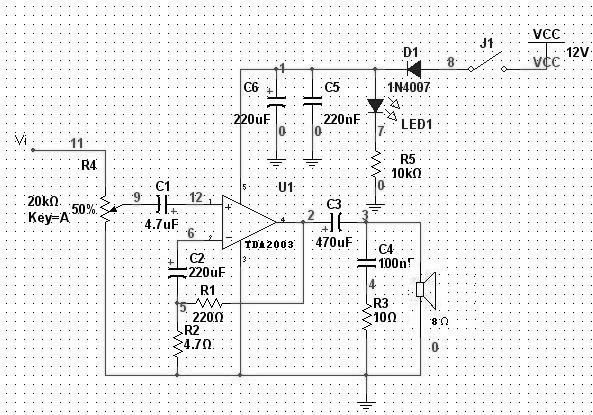amplifier: (214, 189, 278, 253)
cap1: (165, 257, 189, 282), (266, 86, 288, 112), (154, 193, 178, 216), (324, 211, 347, 234), (354, 254, 379, 272), (299, 93, 326, 109)
diode: (400, 59, 428, 81), (366, 94, 386, 119)
gnd: (299, 155, 325, 171), (355, 398, 379, 414), (265, 157, 289, 171), (365, 200, 387, 215)
res2: (97, 190, 115, 226), (169, 327, 187, 362), (191, 295, 227, 312), (359, 299, 375, 337), (370, 146, 384, 184)
switch: (466, 49, 510, 78)
